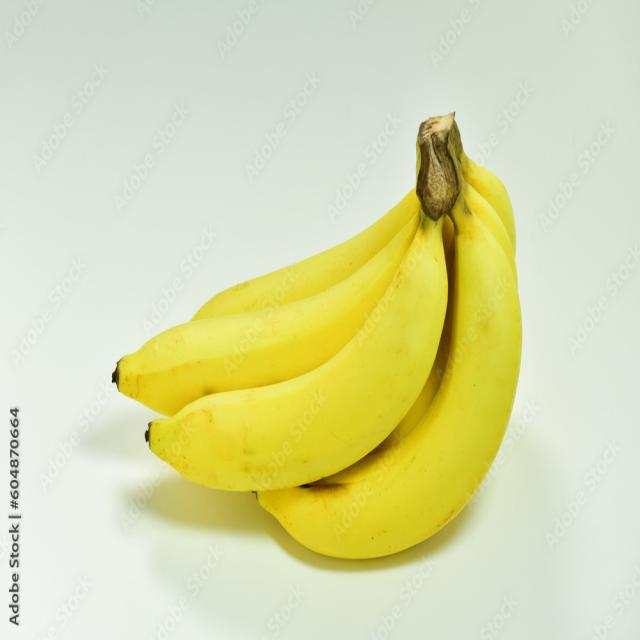Banana: (259, 195, 521, 558), (149, 208, 448, 490), (118, 189, 419, 414), (192, 189, 419, 319)
